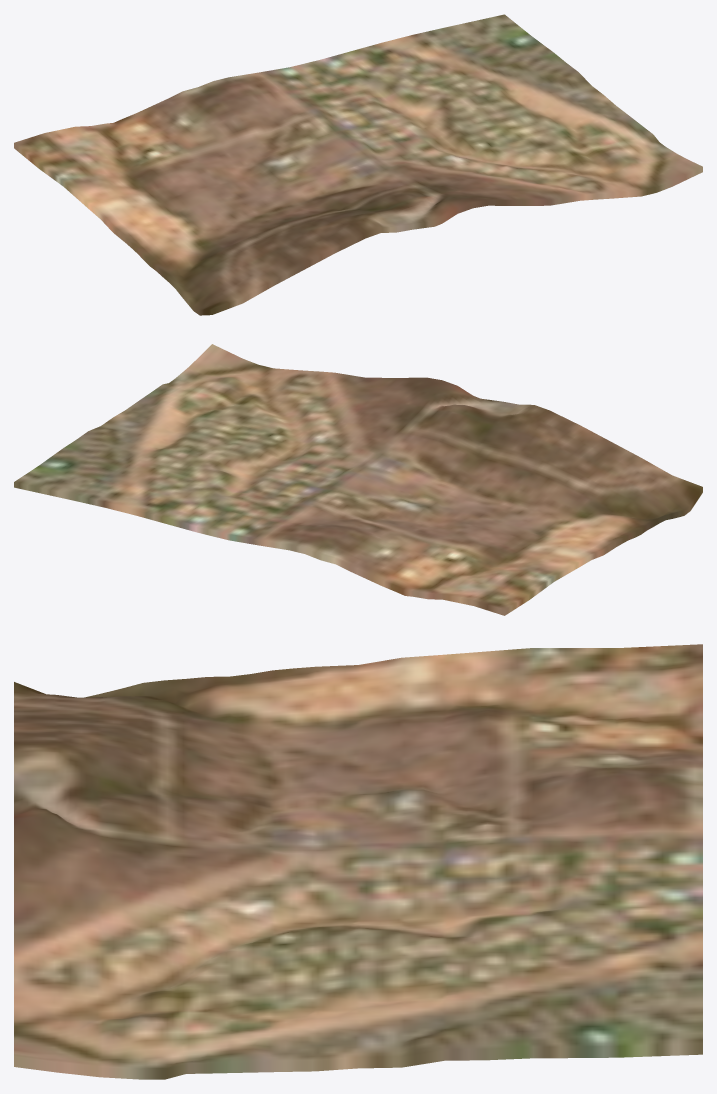
Rendered from terrain_r4_c1_lod2.glb.
The picture shows the model from 3 angles, top to bottom: view 1: azimuth 30°, elevation 25°; view 2: azimuth 150°, elevation 25°; view 3: azimuth 270°, elevation 25°; orthographic projection. The views are drawn at different scales.
Parts seen in each view (by area): view 1: terrain_r4_c1_lod2; view 2: terrain_r4_c1_lod2; view 3: terrain_r4_c1_lod2.
Part boxes in pixels (x1,y1,x2,y2): terrain_r4_c1_lod2: (14, 14, 702, 315); terrain_r4_c1_lod2: (14, 344, 702, 615); terrain_r4_c1_lod2: (14, 644, 702, 1079).
Size of the model in its own units: 1125 by 128 by 787.
Materials: 1 (1 with a texture image).
